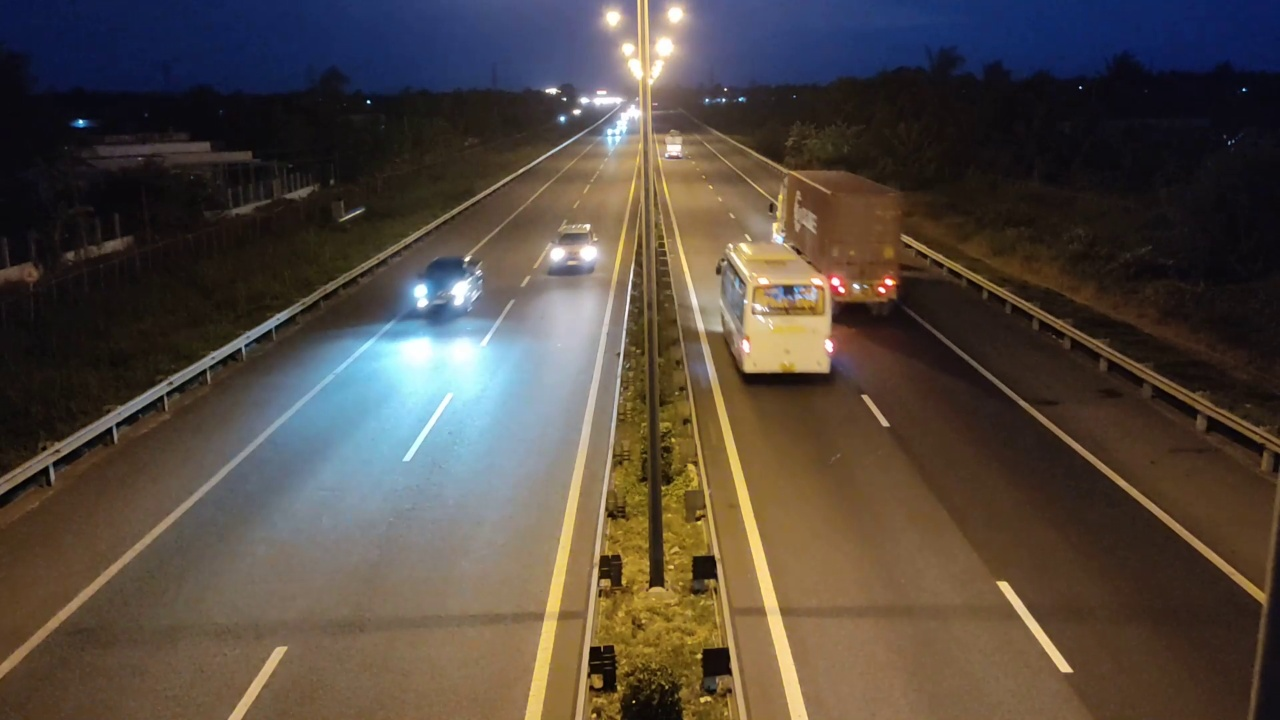bus: (715, 236, 837, 381)
car: (410, 256, 485, 320), (546, 224, 599, 275)
truck: (773, 167, 903, 318)
